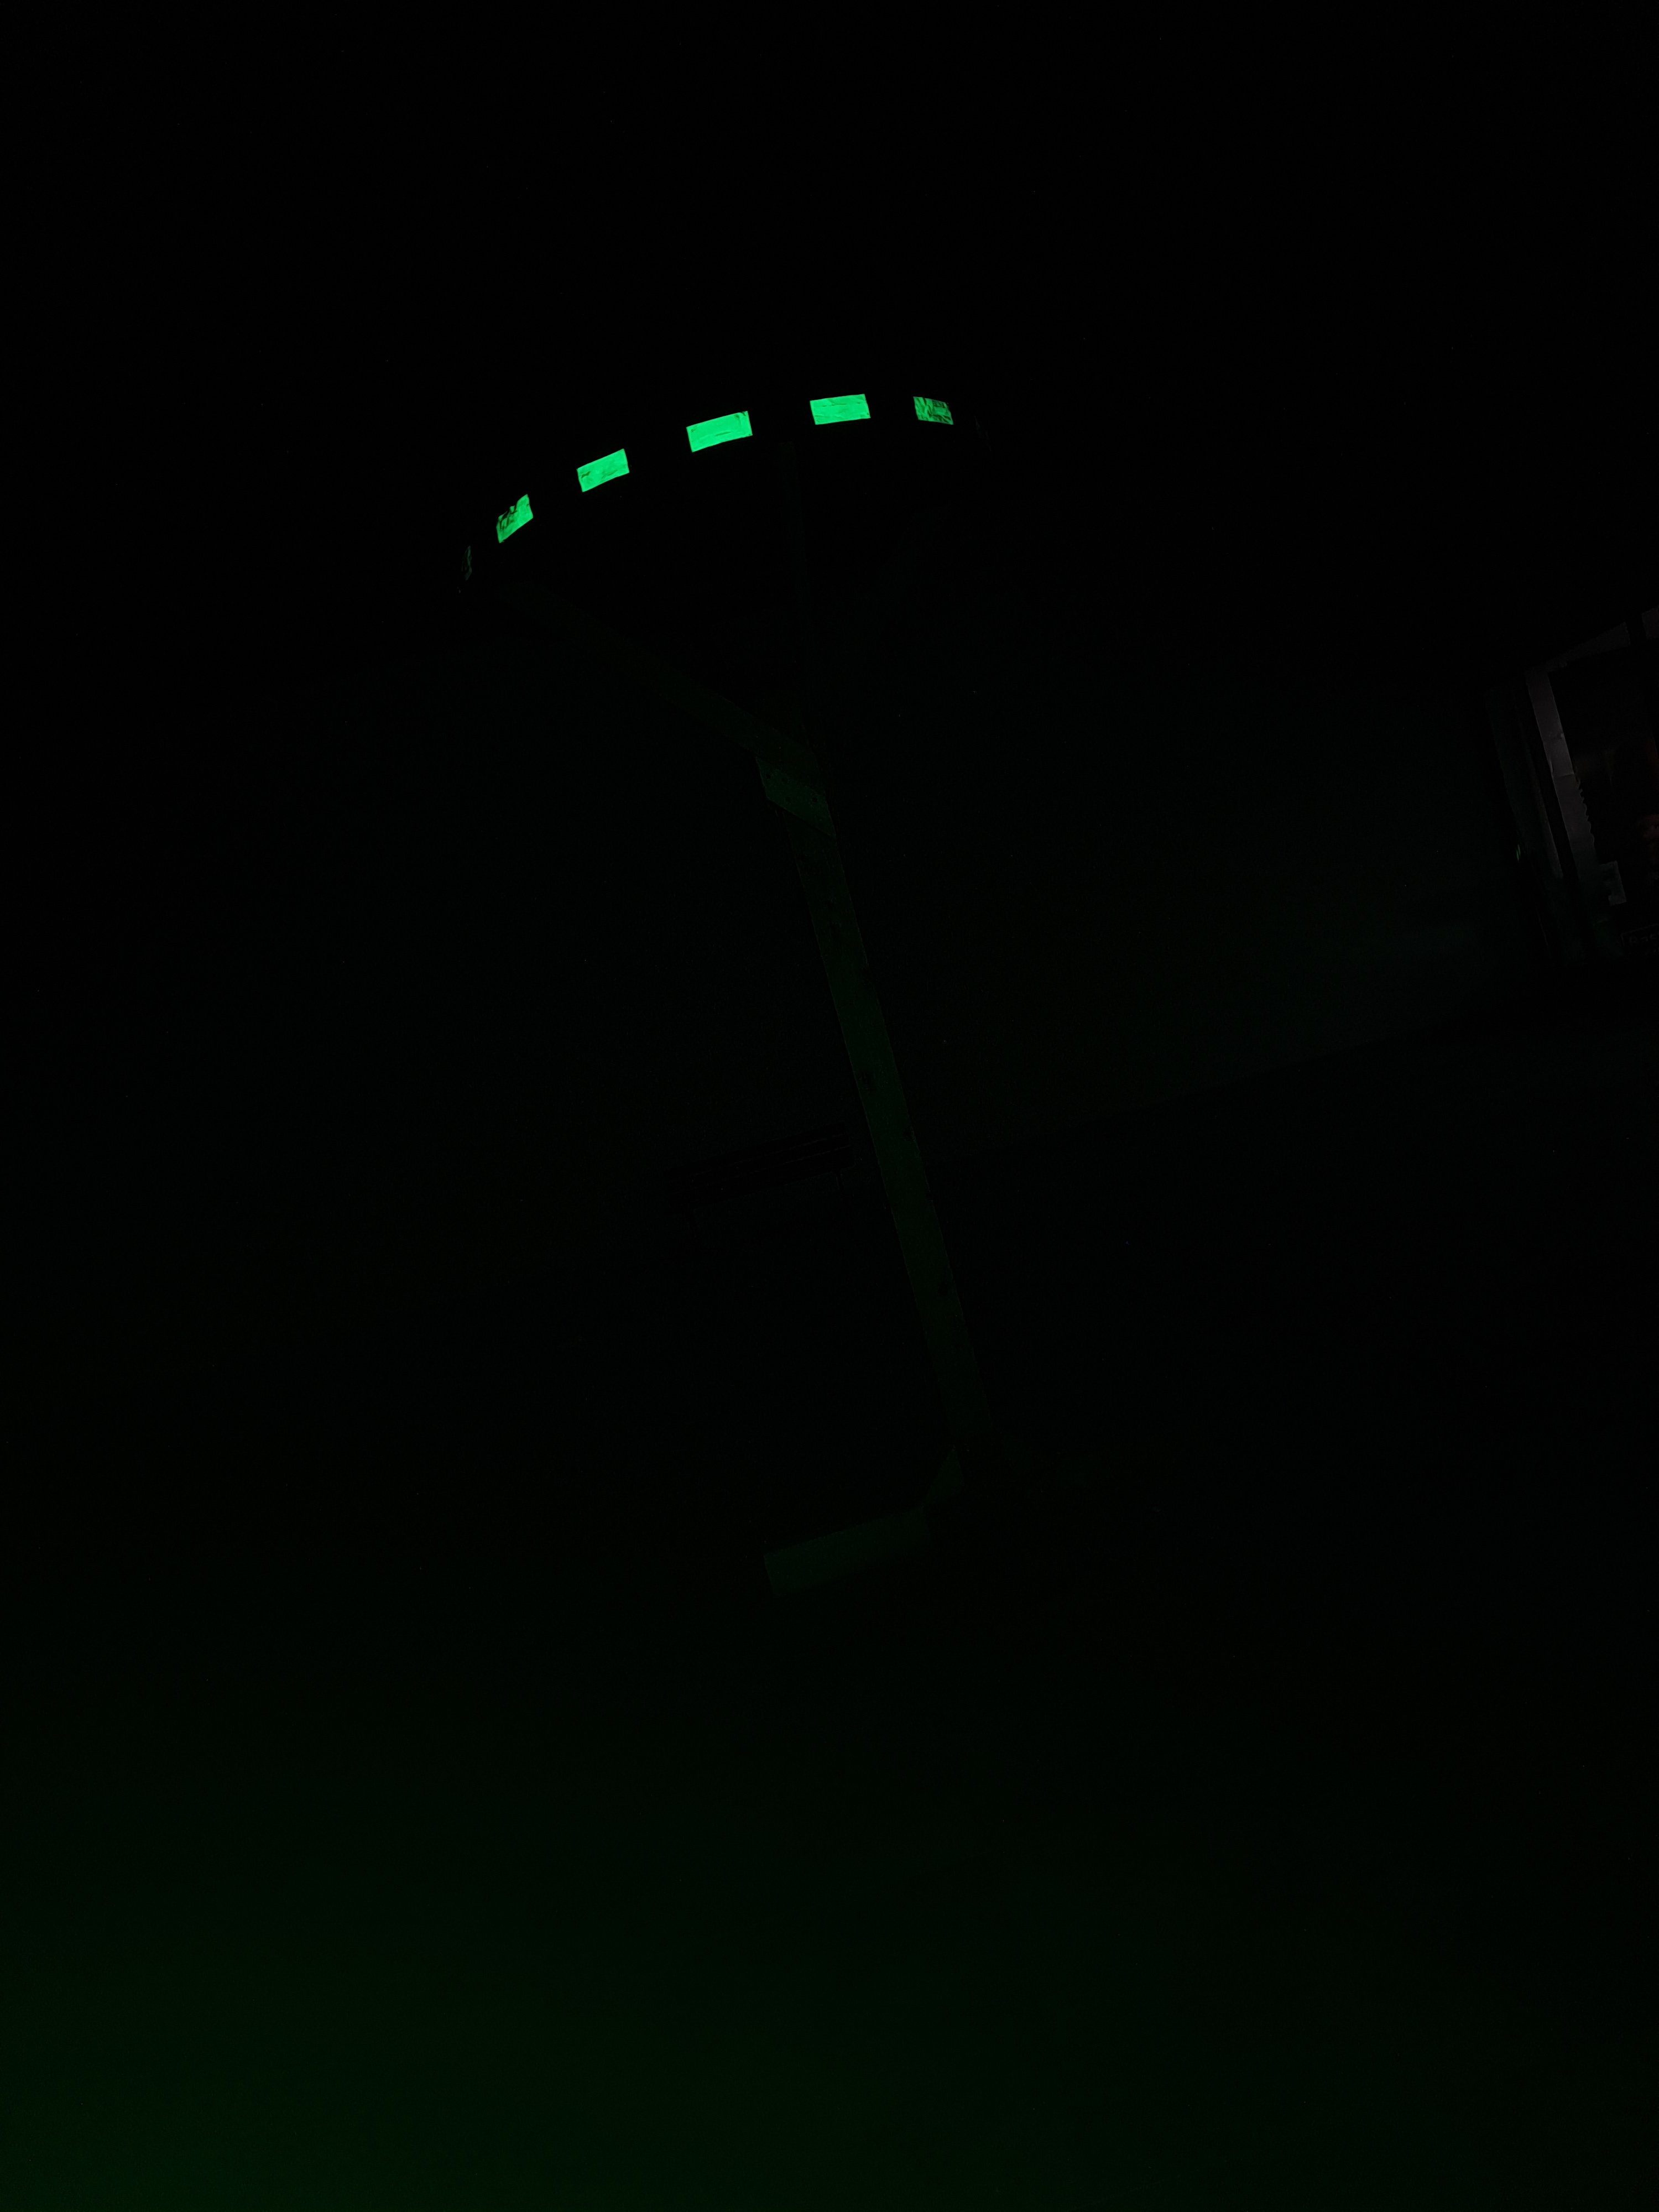hoop: (490, 390, 957, 549)
